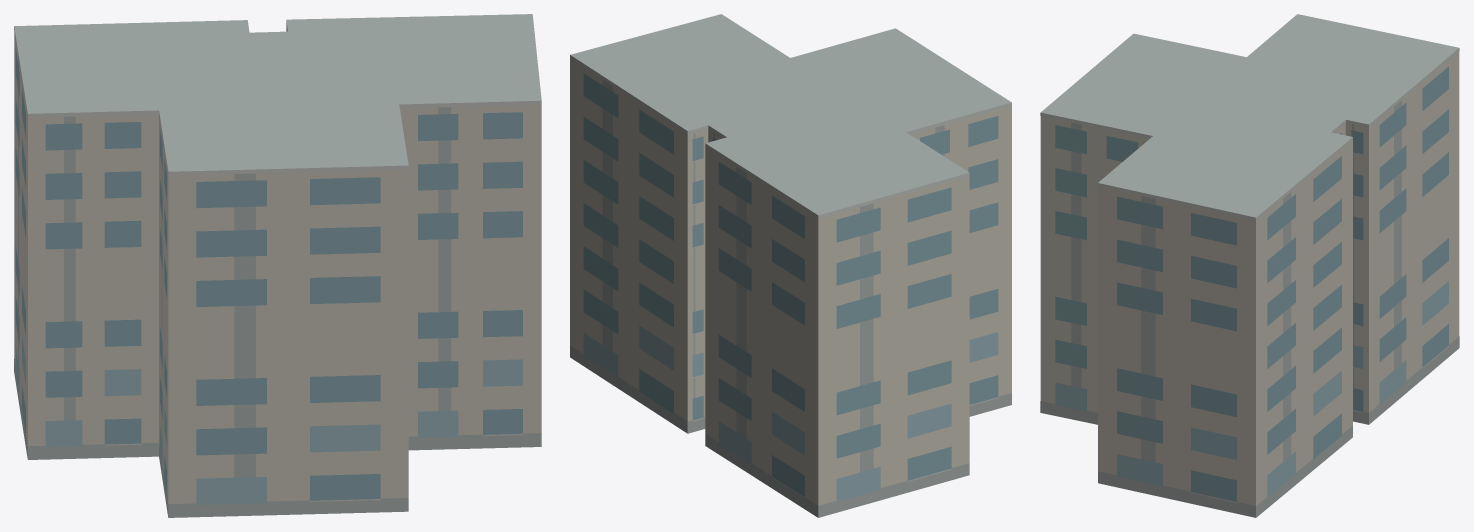
File: residential-05d2f30d-ef35-494c-a33b-cd44e0cc844e.glb
3 renders of one model, left to right at view 1: azimuth 30°, elevation 25°; view 2: azimuth 150°, elevation 25°; view 3: azimuth 270°, elevation 25°, orthographic. The views are drawn at different scales.
Parts seen in each view (by area): view 1: residential-05d2f30d-ef35-494c-a33b-cd44e0cc844e.tmp; view 2: residential-05d2f30d-ef35-494c-a33b-cd44e0cc844e.tmp; view 3: residential-05d2f30d-ef35-494c-a33b-cd44e0cc844e.tmp.
Boxes of the visible parts, x1,y1,x2,y2 form: residential-05d2f30d-ef35-494c-a33b-cd44e0cc844e.tmp: (14,14,541,517); residential-05d2f30d-ef35-494c-a33b-cd44e0cc844e.tmp: (570,14,1011,517); residential-05d2f30d-ef35-494c-a33b-cd44e0cc844e.tmp: (1040,14,1459,517).
Bounding box in the file's own units: 30.54 × 21 × 26.56.
